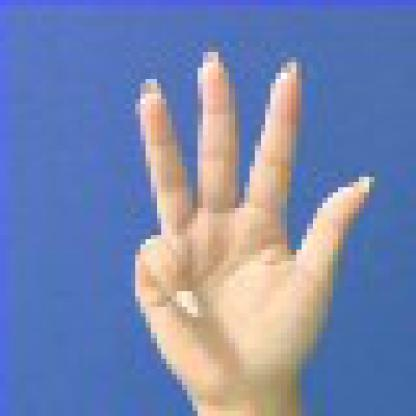nine: (88, 31, 400, 411)
